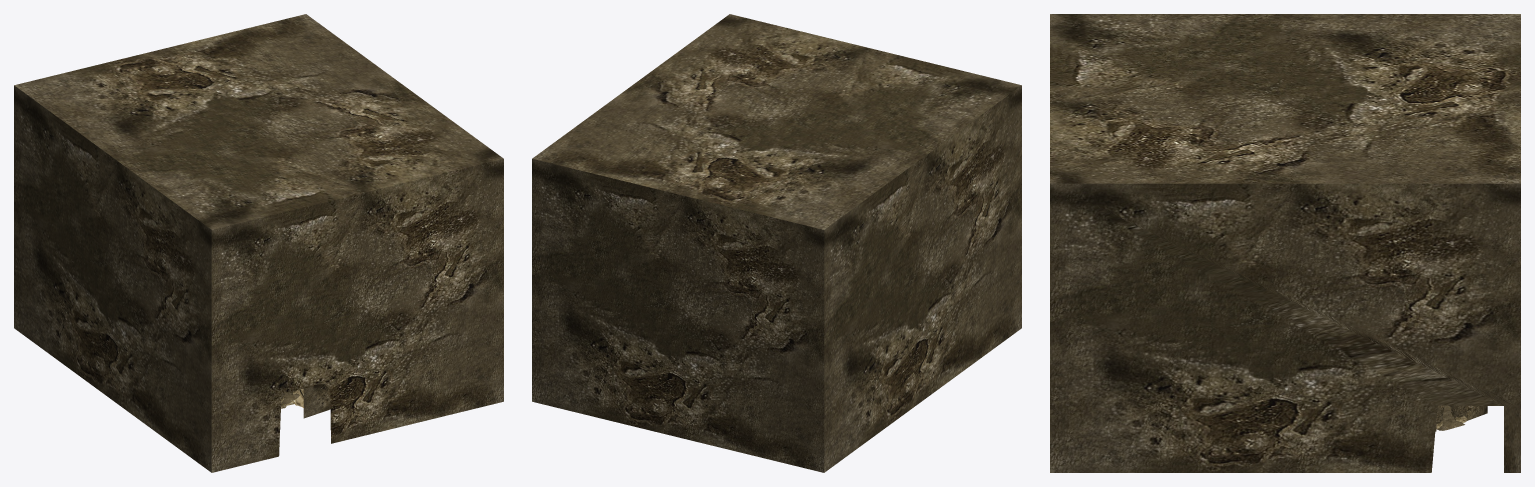
File: cave_e_zero.fbx
The picture shows the model from 3 angles, left to right: view 1: azimuth 30°, elevation 25°; view 2: azimuth 150°, elevation 25°; view 3: azimuth 270°, elevation 25°; orthographic projection. The views are drawn at different scales.
Parts seen in each view (by area): view 1: RoofPlane1, BG_Wall6; view 2: RoofPlane1; view 3: RoofPlane1.
Boxes of the visible parts, x1,y1,x2,y2 form: RoofPlane1: (14, 14, 503, 472); BG_Wall6: (303, 382, 330, 418); RoofPlane1: (532, 14, 1021, 472); RoofPlane1: (1050, 14, 1520, 472).
Size of the model in its own units: 57679 by 45853 by 67622.
4 materials, 4 textured.
